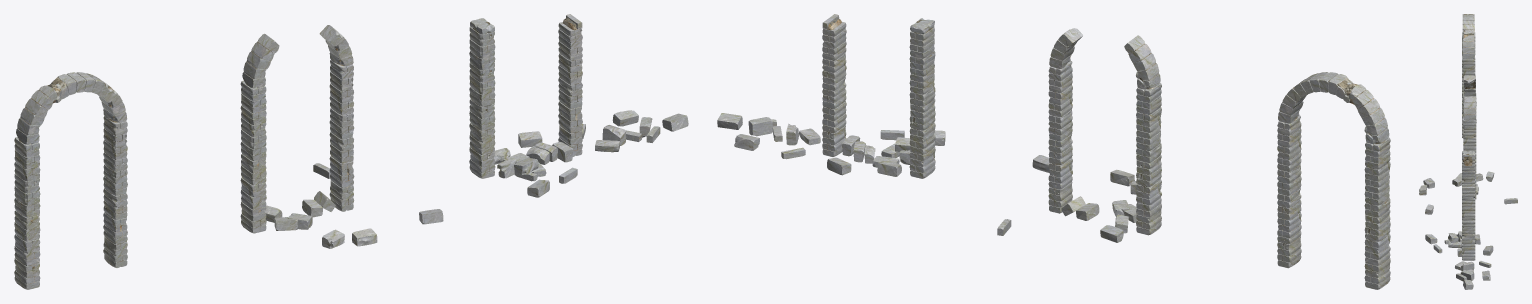
File: stone_arch_pillars.glb
The picture shows the model from 3 angles, left to right: view 1: azimuth 30°, elevation 25°; view 2: azimuth 150°, elevation 25°; view 3: azimuth 270°, elevation 25°; orthographic projection. The views are drawn at different scales.
Parts seen in each view (by area): view 1: Arch-Destroyed_4, Arch-Full_0, Arch-PartialDamage_2; view 2: Arch-Destroyed_4, Arch-PartialDamage_2, Arch-Full_0; view 3: Arch-Destroyed_4, Arch-PartialDamage_2, Arch-Full_0.
Boxes of the visible parts, x1,y1,x2,y2 form: Arch-Destroyed_4: (288,14,688,248); Arch-Full_0: (14,72,127,289); Arch-PartialDamage_2: (240,25,354,233); Arch-Destroyed_4: (717,14,1137,235); Arch-PartialDamage_2: (1048,28,1161,242); Arch-Full_0: (1277,72,1390,289); Arch-Destroyed_4: (1419,151,1517,289); Arch-PartialDamage_2: (1456,75,1494,199); Arch-Full_0: (1462,14,1475,137).
Size of the model in its own units: 17.55 by 4.95 by 4.1.
Materials: 2 (2 with a texture image).
